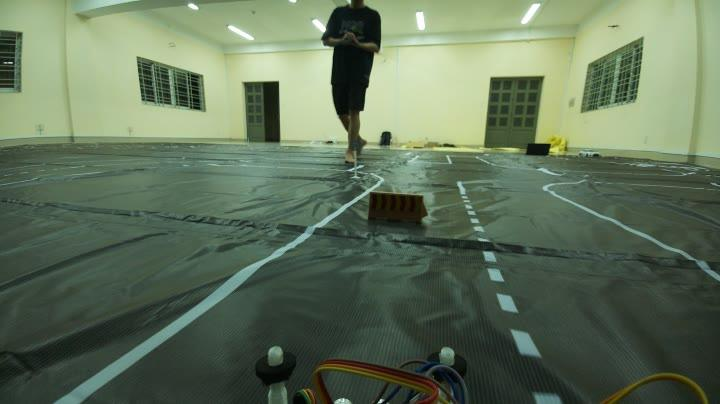roadblock: (364, 184, 440, 240)
